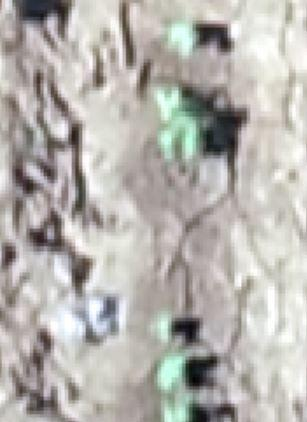cotton: (163, 115, 203, 157), (155, 91, 194, 115), (169, 24, 195, 52), (161, 357, 185, 386), (164, 405, 192, 422), (155, 315, 171, 337)
